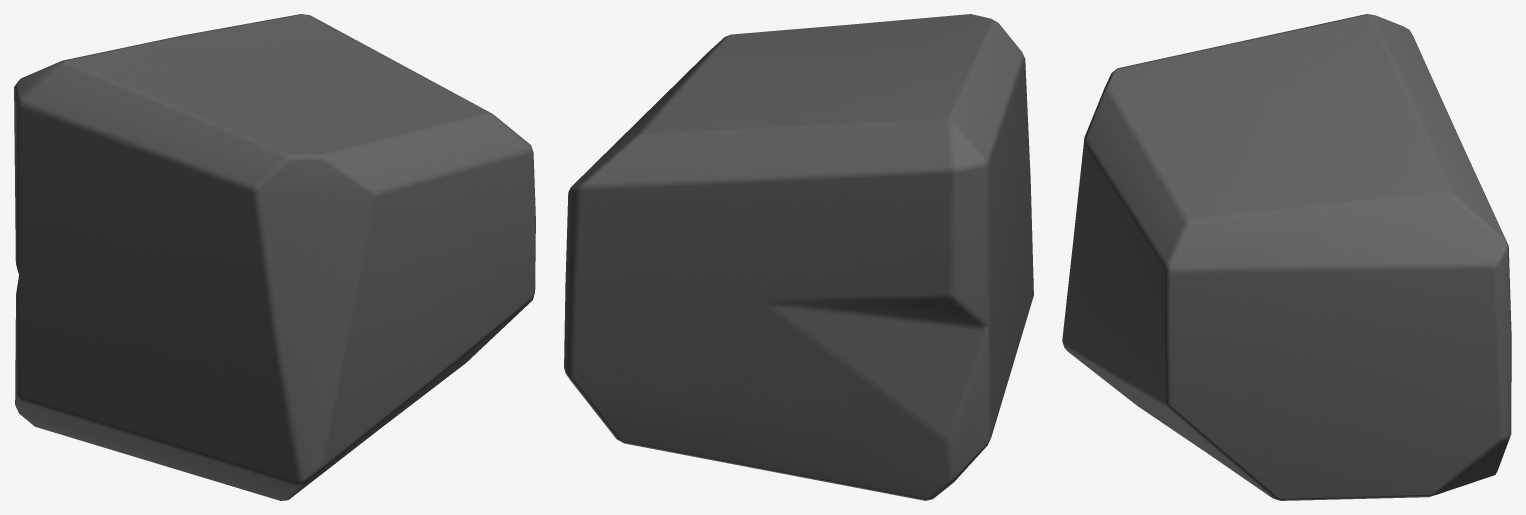
Rendered from SM_rockCliff_dynamic_5.fbx.
3 views of the same model, side by side, from view 1: azimuth 30°, elevation 25°; view 2: azimuth 150°, elevation 25°; view 3: azimuth 270°, elevation 25° (orthographic). The views are drawn at different scales.
Parts seen in each view (by area): view 1: SM_rockCliff_dynamic_5; view 2: SM_rockCliff_dynamic_5; view 3: SM_rockCliff_dynamic_5.
Part boxes in pixels (box(x1,y1,x2,y2)): SM_rockCliff_dynamic_5: box(14, 14, 535, 500); SM_rockCliff_dynamic_5: box(564, 14, 1033, 500); SM_rockCliff_dynamic_5: box(1062, 14, 1511, 500).
Bounding box in the file's own units: 108 × 97.23 × 111.
Materials: 1 (1 with a texture image).
